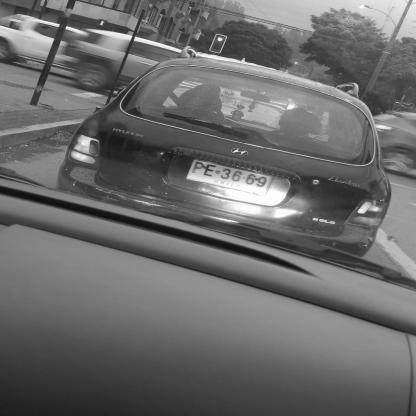Patente: (184, 157, 278, 200)
